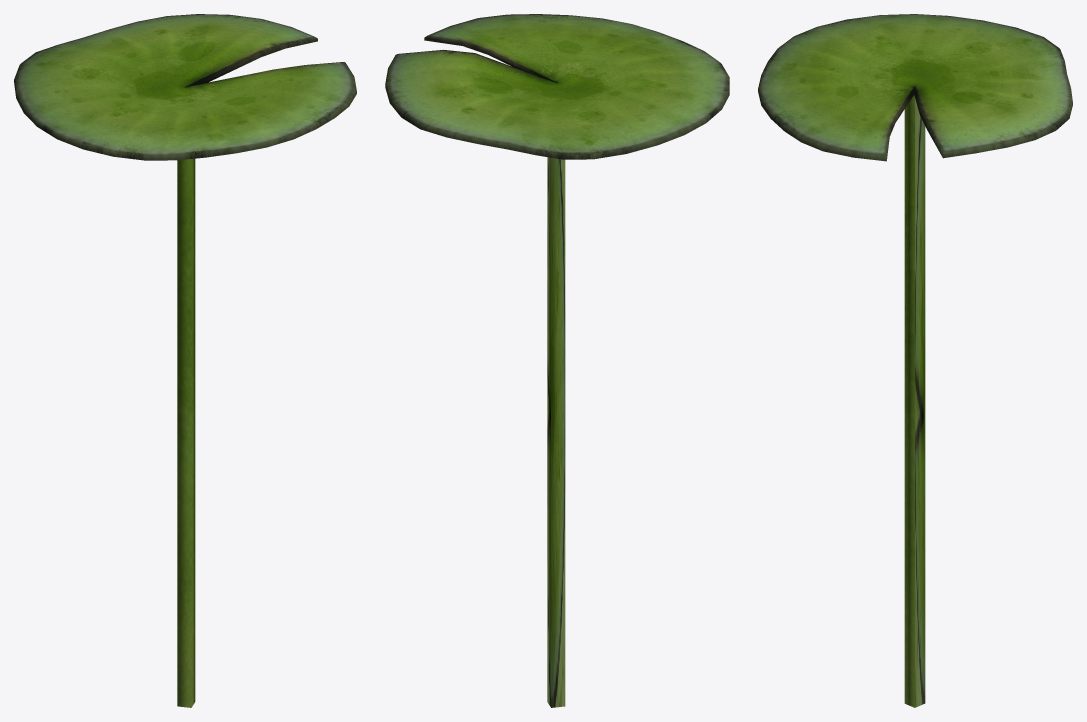
File: Lily_Pad.glb
3 views of the same model, side by side, from view 1: azimuth 30°, elevation 25°; view 2: azimuth 150°, elevation 25°; view 3: azimuth 270°, elevation 25° (orthographic).
Visible parts, largest first — view 1: LilyPad; view 2: LilyPad; view 3: LilyPad.
Boxes of the visible parts, bbox=[...] form: LilyPad: bbox=[14, 14, 356, 707]; LilyPad: bbox=[385, 14, 729, 707]; LilyPad: bbox=[758, 14, 1072, 707].
Bounding box in the file's own units: 1.02 × 2.08 × 0.942.
1 material, 1 textured.
